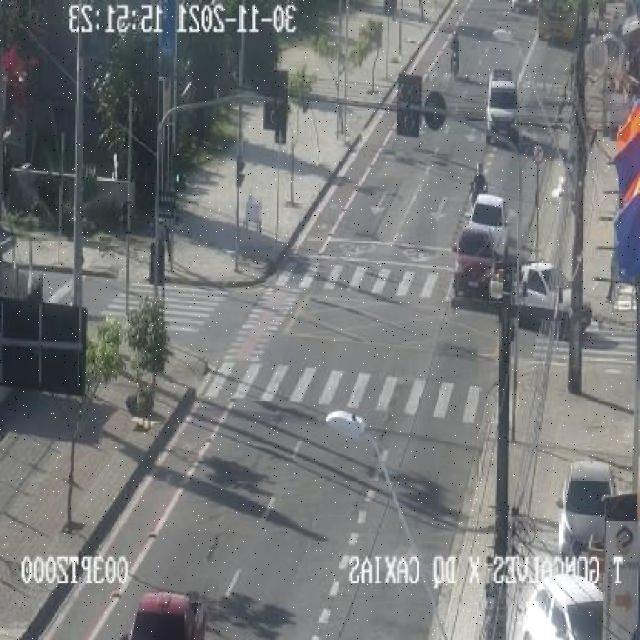Bus: (536, 1, 580, 46)
Car: (451, 197, 513, 299), (558, 461, 618, 557), (519, 573, 604, 638), (127, 590, 204, 639), (485, 67, 519, 143), (621, 14, 640, 42), (512, 0, 539, 15)
Cycle: (468, 171, 487, 210)
Truck: (490, 262, 585, 334)
